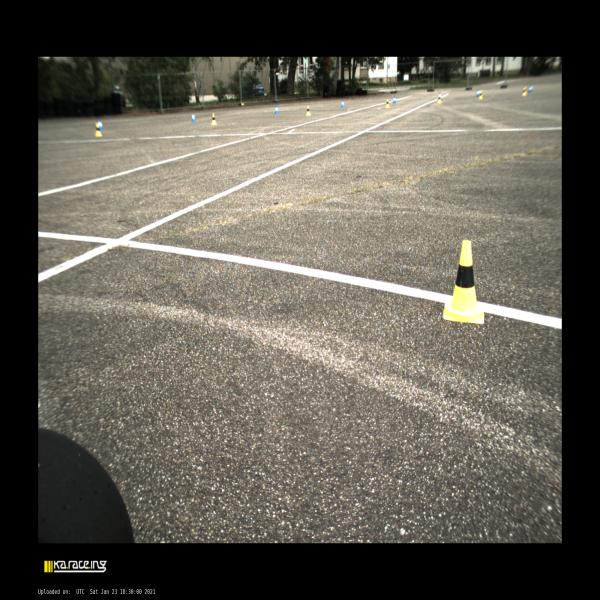blue_cone: (98, 120, 104, 130), (191, 112, 196, 122), (274, 105, 279, 114), (340, 100, 345, 108), (529, 85, 533, 93), (393, 96, 397, 103), (476, 89, 480, 96), (439, 92, 442, 100)
yellow_cone: (443, 241, 484, 323), (95, 123, 102, 136), (211, 113, 217, 125), (306, 106, 311, 116), (385, 98, 390, 108), (522, 86, 527, 96), (437, 94, 441, 104), (479, 91, 483, 99)
